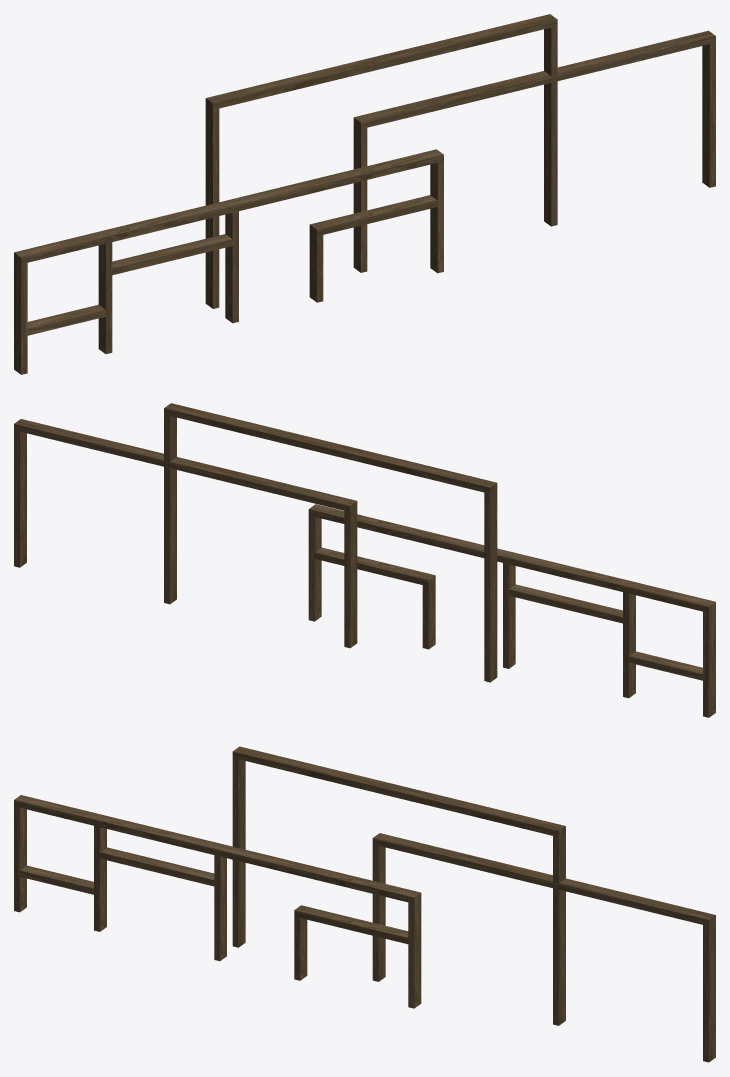
Rendered from aw13_brownebony.fbx.
3 views of the same model, one above another, from view 1: azimuth 30°, elevation 25°; view 2: azimuth 150°, elevation 25°; view 3: azimuth 330°, elevation 25° (orthographic). The views are drawn at different scales.
Parts seen in each view (by area): view 1: aw13_brownebony; view 2: aw13_brownebony; view 3: aw13_brownebony.
Boxes of the visible parts, bbox=[...] form: aw13_brownebony: bbox=[14, 14, 715, 374]; aw13_brownebony: bbox=[14, 403, 715, 717]; aw13_brownebony: bbox=[14, 746, 715, 1062].
Size of the model in its own units: 338 by 93 by 22.
Materials: 1 (1 with a texture image).
